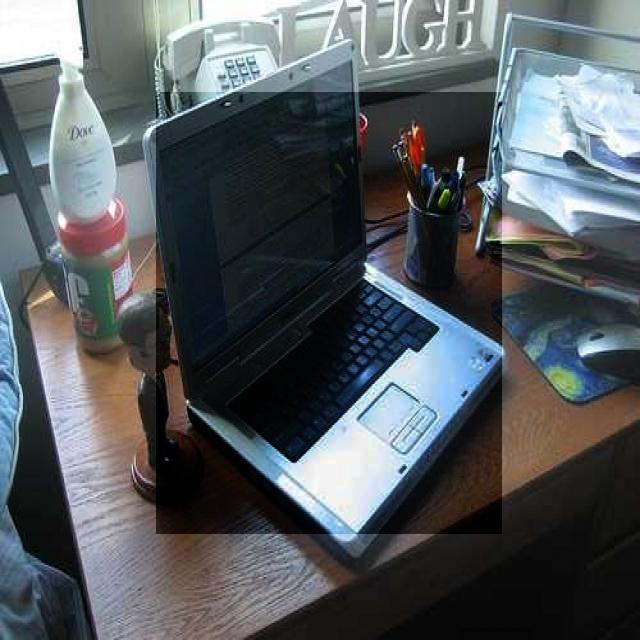-keyboard-: (156, 92, 502, 534)
